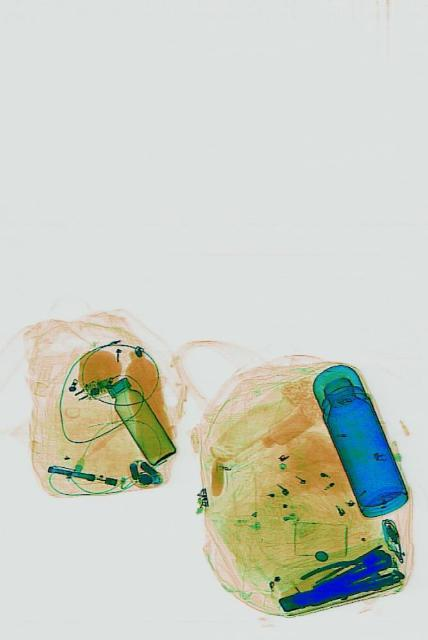Pliers: (291, 552, 392, 618), (297, 540, 384, 592)
